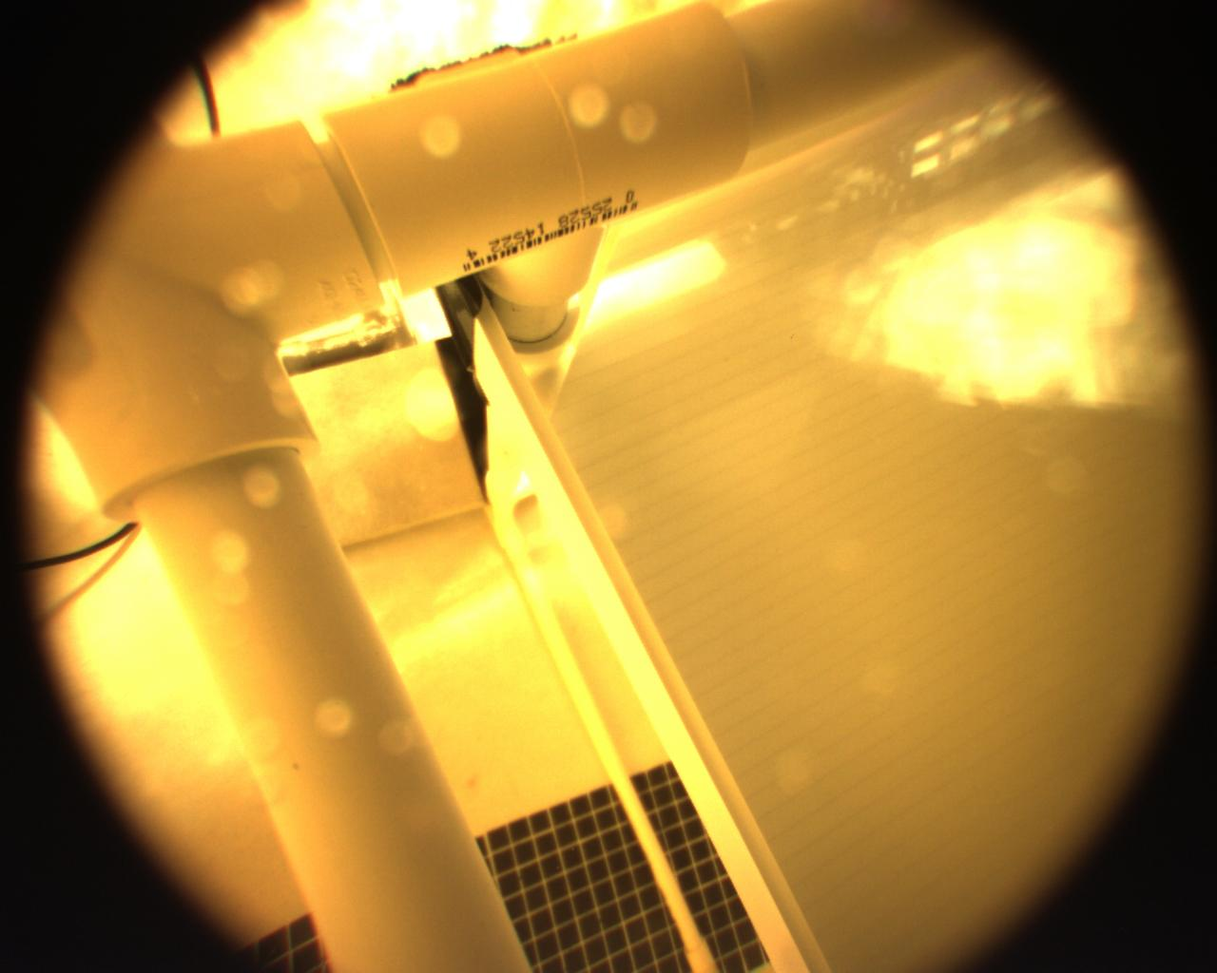coral-box-top: (11, 2, 1208, 968)
